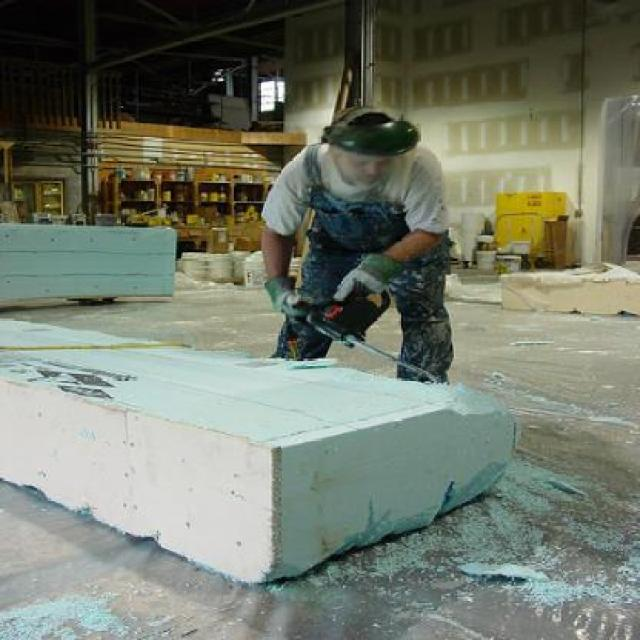Chainsaw: (277, 274, 415, 383)
